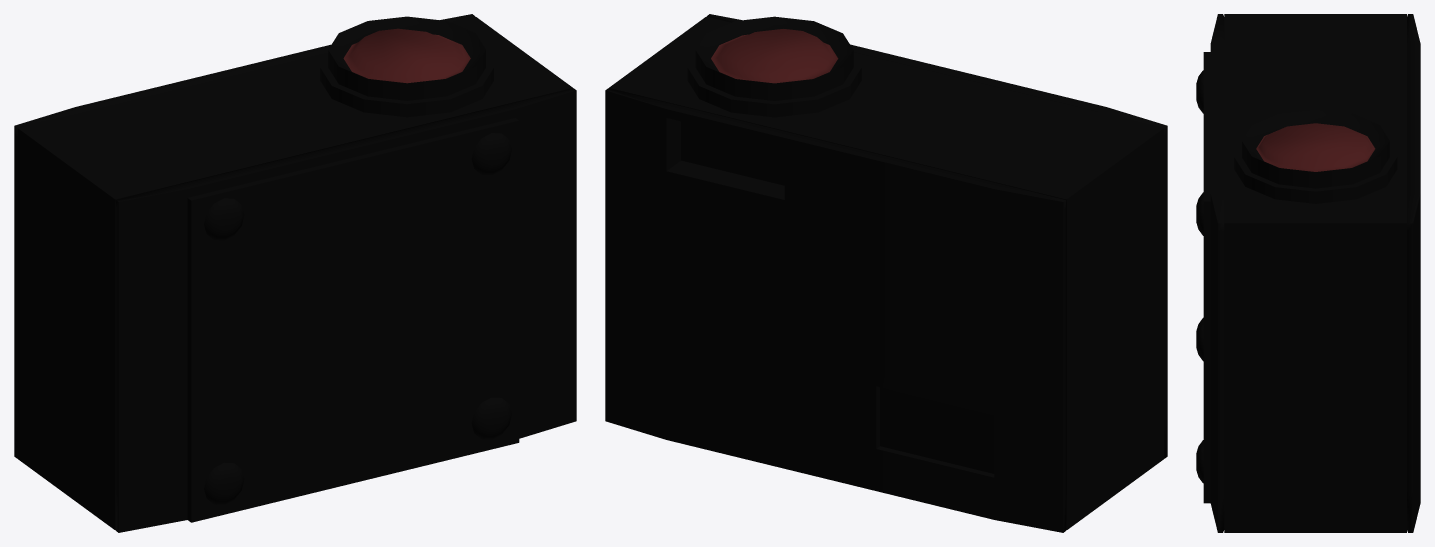
3 renders of one model, left to right at view 1: azimuth 30°, elevation 25°; view 2: azimuth 150°, elevation 25°; view 3: azimuth 270°, elevation 25°, orthographic. The views are drawn at different scales.
Visible parts, largest first — view 1: Circle; view 2: Circle; view 3: Circle.
Boxes of the visible parts, box(x1,y1,x2,y2) form: Circle: box(14, 14, 576, 532); Circle: box(605, 14, 1167, 532); Circle: box(1196, 14, 1420, 532).
Size of the model in its own units: 22.3 by 16.83 by 10.1.
